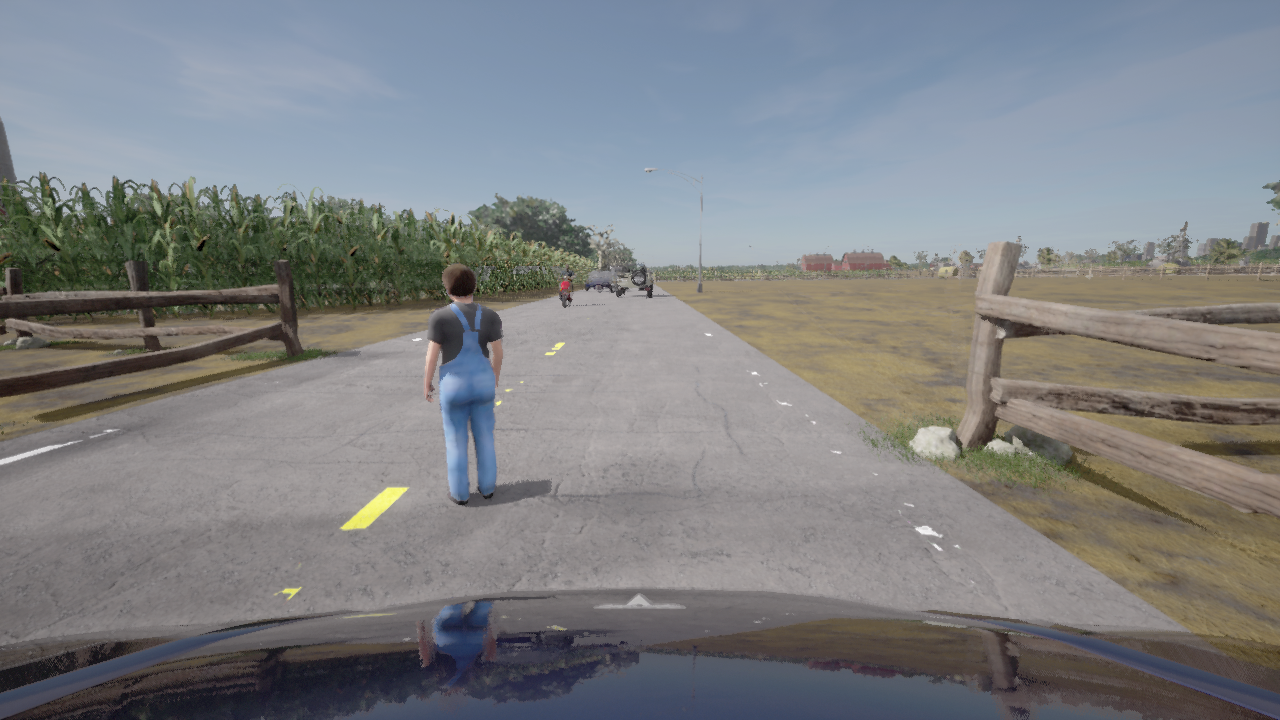cyclist: (0, 588, 1279, 719), (616, 262, 653, 296), (555, 273, 577, 306), (584, 270, 615, 291), (604, 270, 619, 283), (612, 268, 622, 272)
pedestrian: (423, 264, 503, 505)
